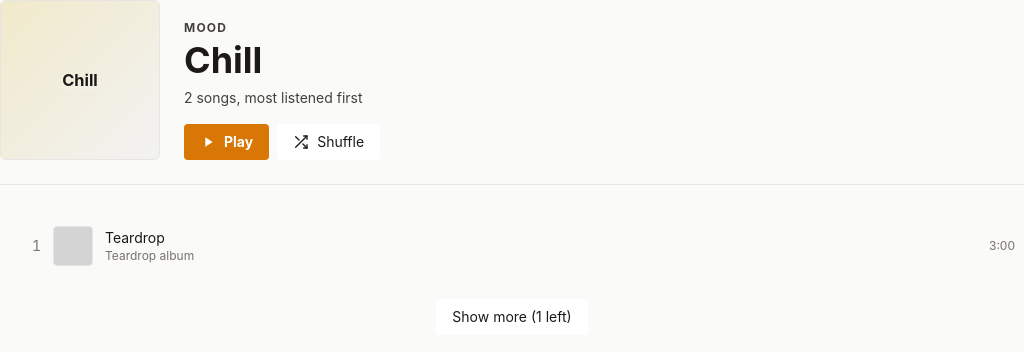
Test: MusicMoodView › shows more songs on request until every one is listed
Click the button "Show more (1 left)".
click(512, 317)  # box [436, 299, 588, 335]
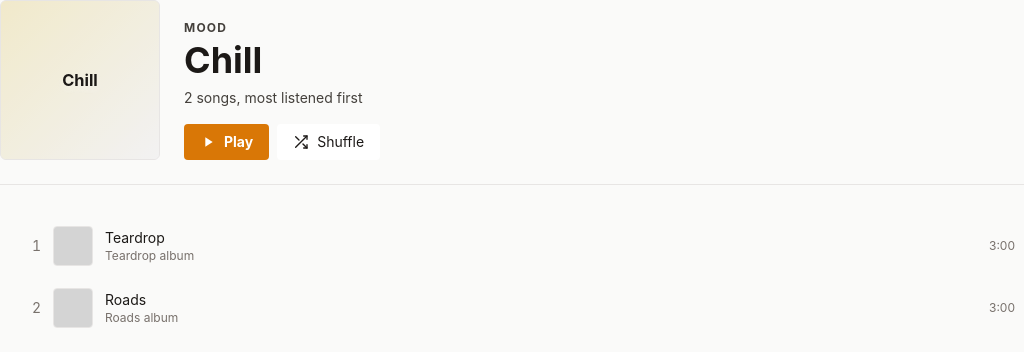
Check: the text "Roads" is shown, box [105, 290, 146, 310]
Check: the button "Show more" is gone
